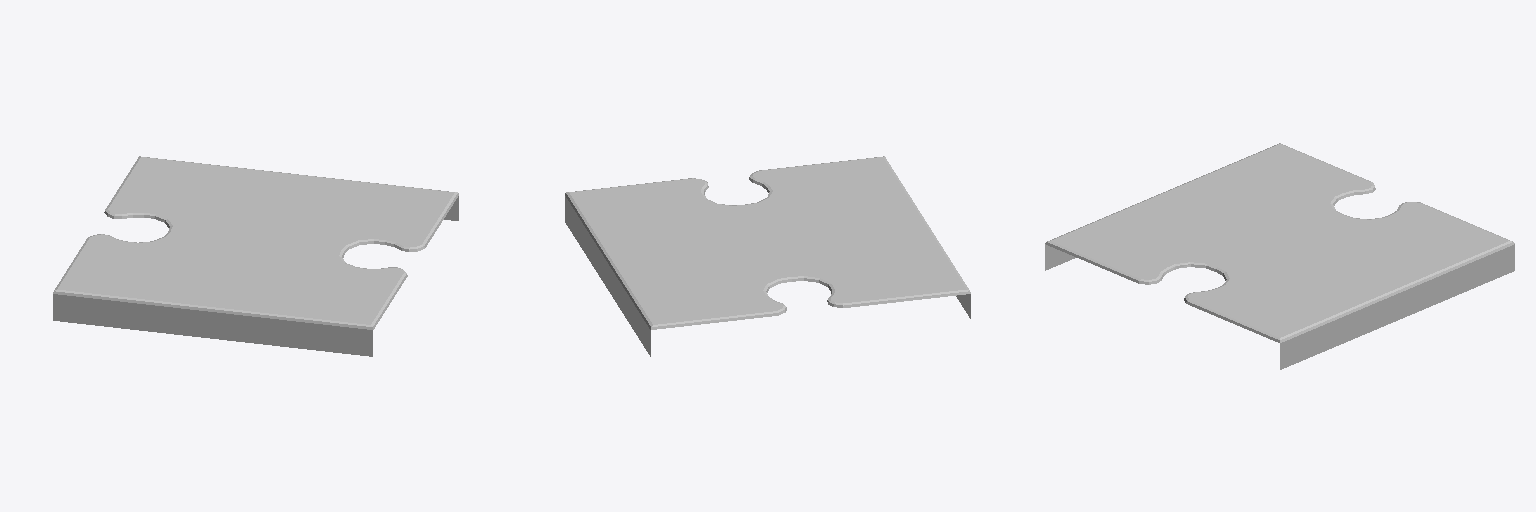
File: Diagonal RTL Dips.obj
The picture shows the model from 3 angles: view 1: azimuth 30°, elevation 25°; view 2: azimuth 150°, elevation 25°; view 3: azimuth 270°, elevation 25°; orthographic projection.
Parts seen in each view (by area): view 1: PuzzleStraightDiagonalRTLDips; view 2: PuzzleStraightDiagonalRTLDips; view 3: PuzzleStraightDiagonalRTLDips.
Boxes of the visible parts, x1=… form: PuzzleStraightDiagonalRTLDips: x1=53, y1=156, x2=458, y2=356; PuzzleStraightDiagonalRTLDips: x1=565, y1=156, x2=970, y2=356; PuzzleStraightDiagonalRTLDips: x1=1045, y1=143, x2=1514, y2=369.
Size of the model in its own units: 835 by 59.05 by 835.